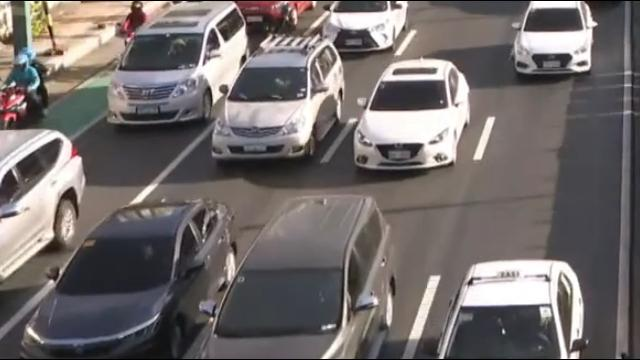car: (195, 194, 400, 360), (23, 201, 237, 359), (210, 34, 347, 169), (422, 259, 592, 360), (0, 129, 85, 290), (353, 58, 472, 172), (511, 0, 601, 80), (320, 0, 414, 57), (235, 0, 320, 30)
motorcycle: (0, 46, 48, 131), (115, 0, 147, 51)
van: (107, 1, 249, 127)
